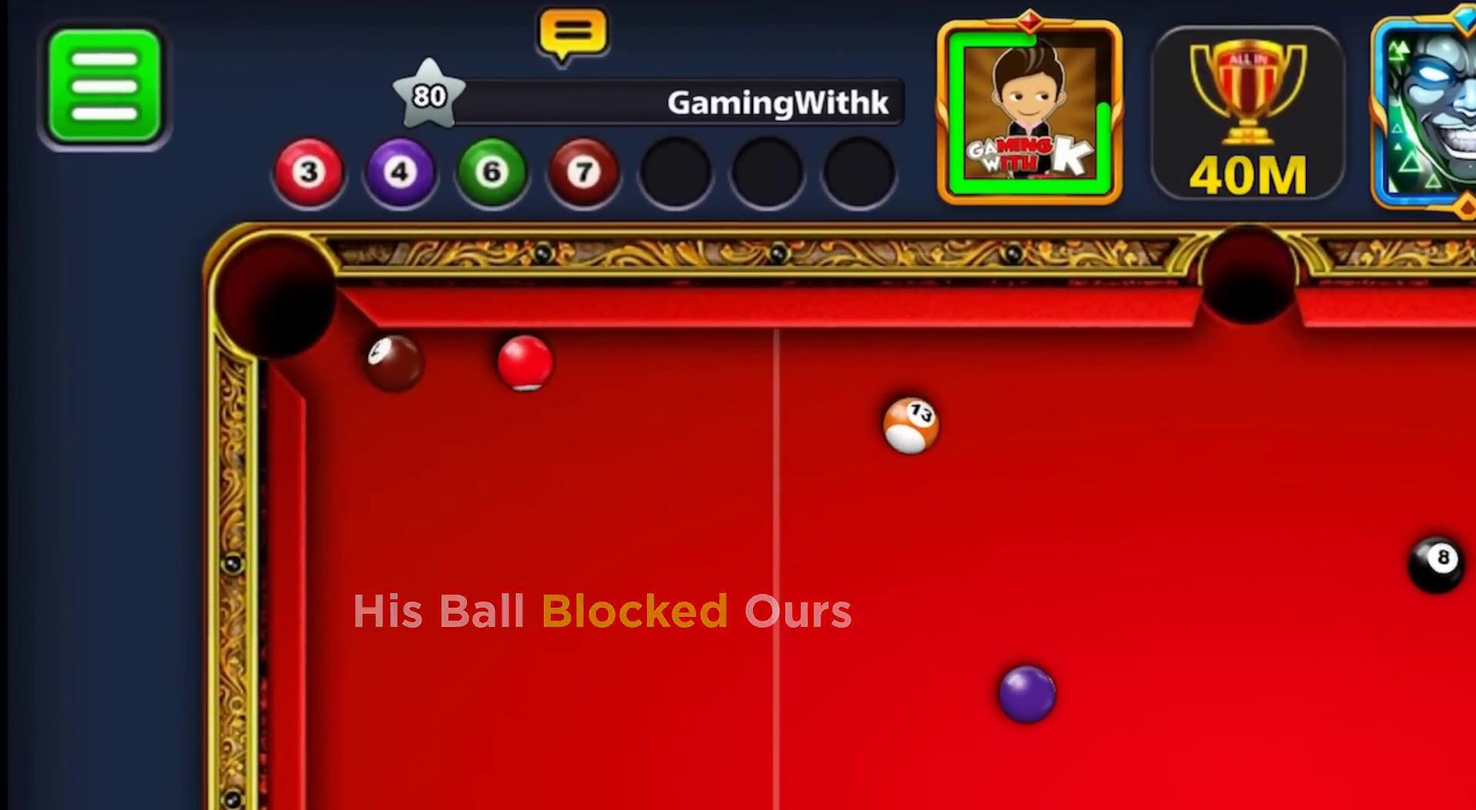Ball: (491, 329, 561, 395), (1411, 538, 1468, 594), (363, 336, 419, 393), (881, 398, 936, 455), (1000, 665, 1054, 721)
Hole: (216, 233, 336, 357), (1201, 230, 1299, 324)
